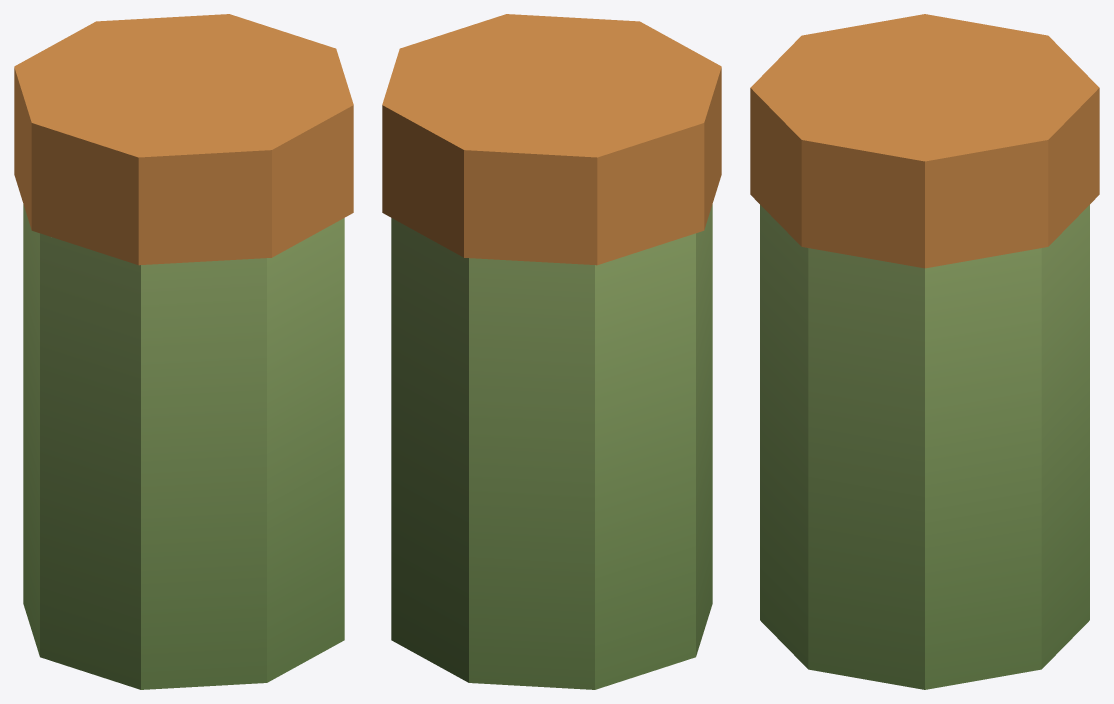
Rendered from KitchenProps_13.fbx.
3 views of the same model, side by side, from view 1: azimuth 30°, elevation 25°; view 2: azimuth 150°, elevation 25°; view 3: azimuth 270°, elevation 25° (orthographic).
Parts seen in each view (by area): view 1: KitchenProps_13; view 2: KitchenProps_13; view 3: KitchenProps_13.
Boxes of the visible parts, box(x1,y1,x2,y2) form: KitchenProps_13: box(14, 14, 353, 689); KitchenProps_13: box(382, 14, 721, 689); KitchenProps_13: box(750, 14, 1099, 689).
Size of the model in its own units: 12.68 by 21.35 by 12.68.
